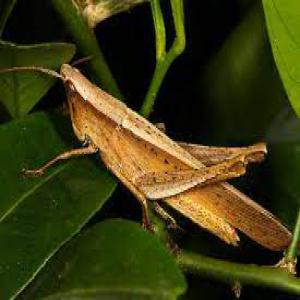locust: (54, 42, 292, 250)
